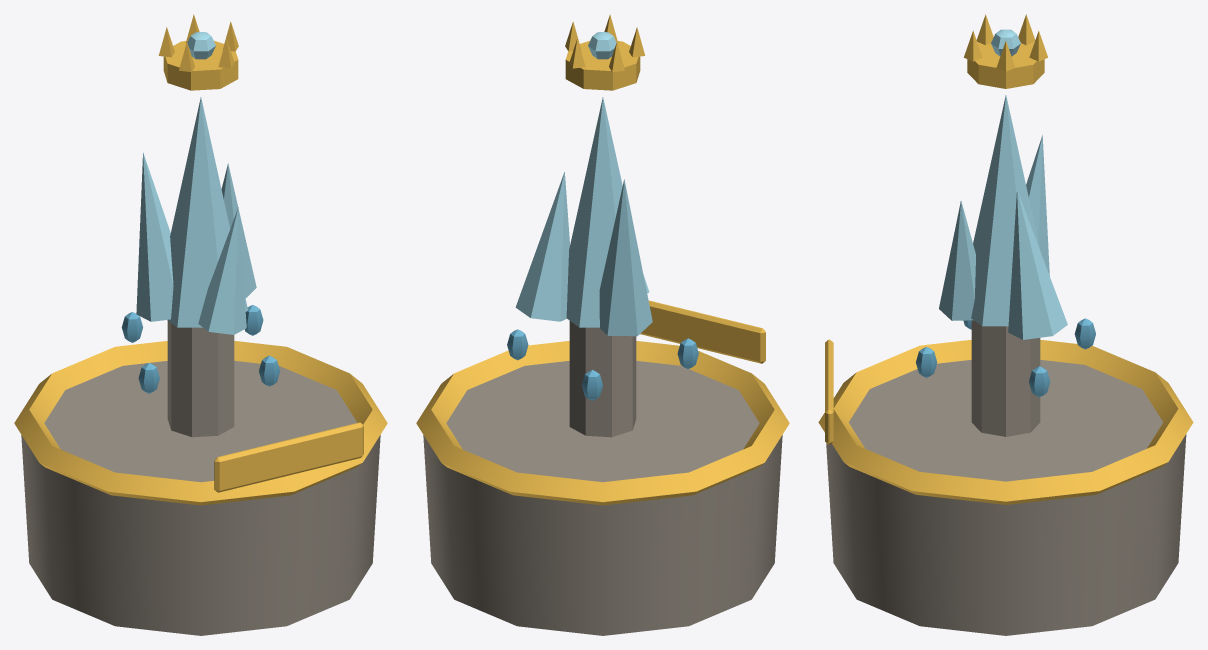
The model's file is PR_Station_Kristal_T3.fbx.
3 renders of one model, left to right at view 1: azimuth 30°, elevation 25°; view 2: azimuth 150°, elevation 25°; view 3: azimuth 270°, elevation 25°, orthographic.
Visible parts, largest first — view 1: PR_Station_Kristal_T3; view 2: PR_Station_Kristal_T3; view 3: PR_Station_Kristal_T3.
Part boxes in pixels (x1,y1,x2,y2): PR_Station_Kristal_T3: (14,14,387,635); PR_Station_Kristal_T3: (416,14,789,635); PR_Station_Kristal_T3: (818,14,1193,635).
Size of the model in its own units: 0.87 by 1.38 by 0.87.
